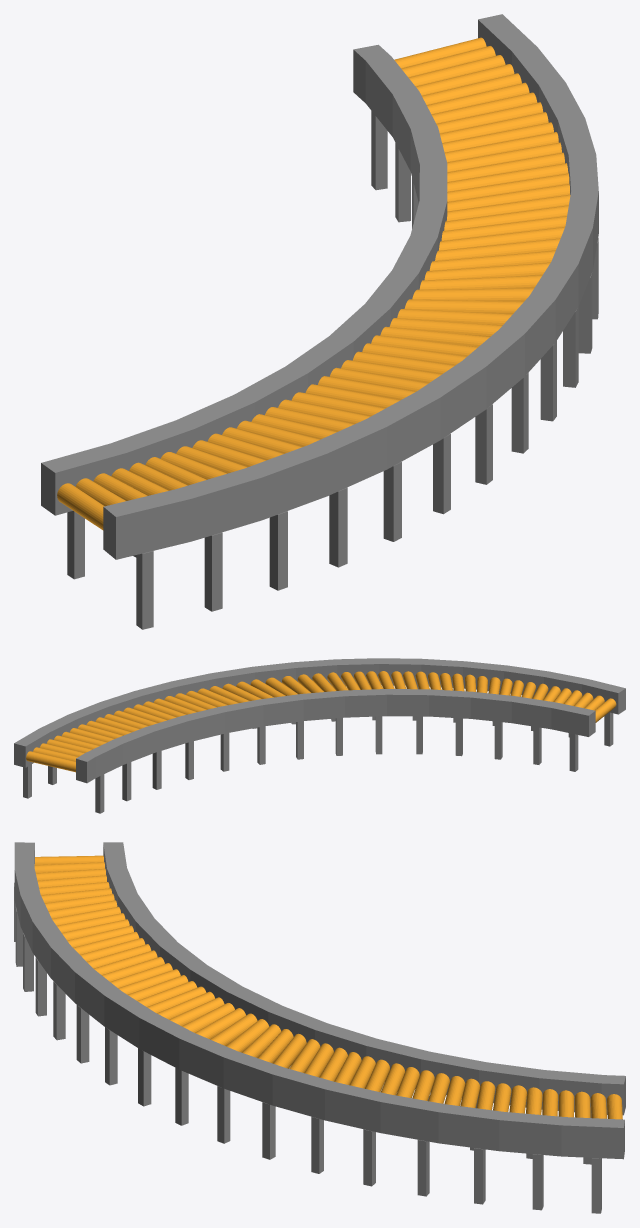
The model's file is PRODUCTION_CURVED.fbx.
3 renders of one model, top to bottom at view 1: azimuth 30°, elevation 25°; view 2: azimuth 150°, elevation 25°; view 3: azimuth 270°, elevation 25°, orthographic. The views are drawn at different scales.
Visible parts, largest first — view 1: Cube.002, Cube.003, Cylinder.094, Cylinder.081, Cylinder.080, Cylinder.093, Cylinder.071, Cylinder.095, Cylinder.083, Cylinder.087, Cylinder.084, Cylinder.088 (+33 smaller); view 2: Cube.003, Cube.002, Cylinder.107, Cylinder.094, Cylinder.056, Cylinder.080, Cylinder.093, Cylinder.095, Cylinder.071, Cylinder.081, Cylinder.085, Cylinder.084 (+19 smaller); view 3: Cube.002, Cube.003, Cylinder.092, Cylinder.095, Cylinder.094, Cylinder.091, Cylinder.090, Cylinder.080, Cylinder.072, Cylinder.063, Cylinder.071, Cylinder.057 (+23 smaller).
Part boxes in pixels (x1=…): Cube.002: x1=103, y1=14, x2=598, y2=629; Cube.003: x1=41, y1=44, x2=447, y2=579; Cylinder.094: x1=412, y1=288, x2=533, y2=301; Cylinder.081: x1=435, y1=238, x2=560, y2=260; Cylinder.080: x1=429, y1=250, x2=555, y2=270; Cylinder.093: x1=419, y1=275, x2=542, y2=289; Cylinder.071: x1=424, y1=262, x2=550, y2=280; Cylinder.095: x1=404, y1=299, x2=523, y2=313; Cylinder.083: x1=441, y1=216, x2=566, y2=240; Cylinder.087: x1=447, y1=173, x2=569, y2=201; Cylinder.084: x1=439, y1=226, x2=564, y2=250; Cylinder.088: x1=447, y1=183, x2=569, y2=211; Cube.003: x1=76, y1=689, x2=595, y2=813; Cube.002: x1=14, y1=658, x2=625, y2=798; Cylinder.107: x1=26, y1=751, x2=75, y2=772; Cylinder.094: x1=265, y1=677, x2=297, y2=695; Cylinder.056: x1=595, y1=698, x2=616, y2=722; Cylinder.080: x1=222, y1=683, x2=261, y2=700; Cylinder.093: x1=250, y1=679, x2=285, y2=697; Cylinder.095: x1=282, y1=676, x2=310, y2=694; Cylinder.071: x1=236, y1=681, x2=273, y2=698; Cylinder.081: x1=209, y1=686, x2=249, y2=702; Cylinder.085: x1=133, y1=704, x2=176, y2=720; Cylinder.084: x1=197, y1=688, x2=238, y2=705; Cube.002: x1=14, y1=842, x2=624, y2=1213; Cube.003: x1=103, y1=842, x2=625, y2=1164; Cylinder.092: x1=195, y1=1008, x2=245, y2=1039; Cylinder.095: x1=210, y1=1013, x2=257, y2=1045; Cylinder.094: x1=226, y1=1019, x2=269, y2=1052; Cylinder.091: x1=182, y1=1003, x2=234, y2=1032; Cylinder.090: x1=169, y1=997, x2=224, y2=1026; Cylinder.080: x1=273, y1=1033, x2=306, y2=1068; Cylinder.072: x1=157, y1=991, x2=214, y2=1019; Cylinder.063: x1=62, y1=919, x2=129, y2=940; Cylinder.071: x1=258, y1=1029, x2=293, y2=1063; Cylinder.057: x1=34, y1=862, x2=104, y2=873.
Size of the model in its own units: 689 by 97.24 by 623.
